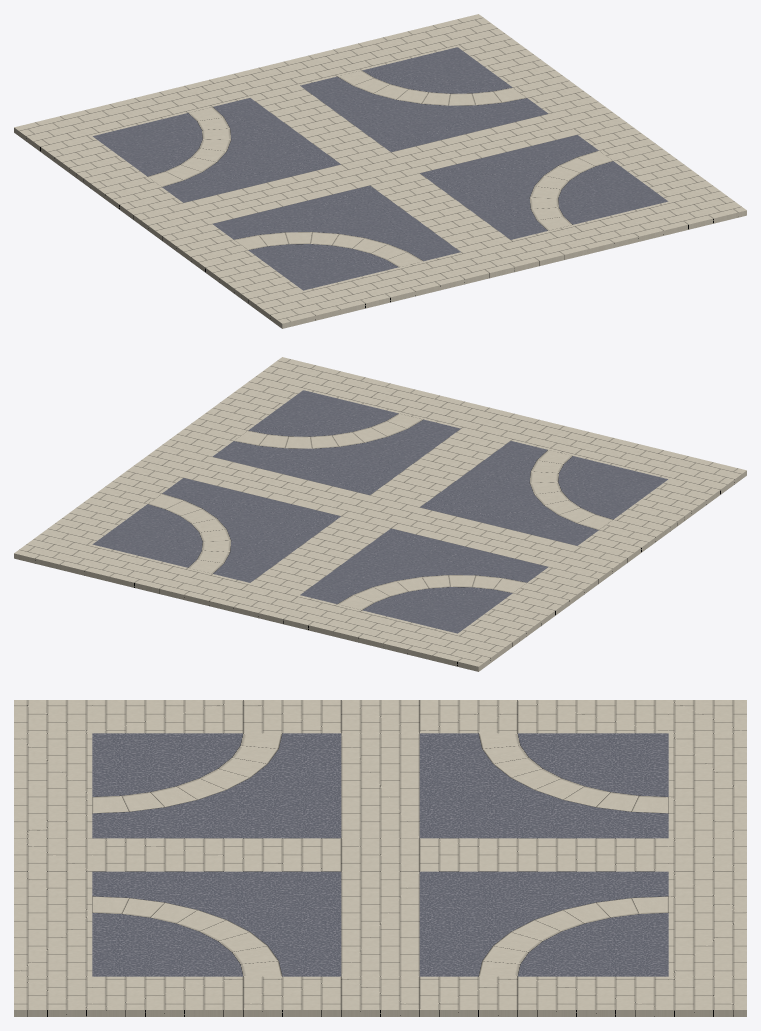
File: PatioGrande.fbx
The picture shows the model from 3 angles, top to bottom: view 1: azimuth 30°, elevation 25°; view 2: azimuth 150°, elevation 25°; view 3: azimuth 270°, elevation 25°; orthographic projection. The views are drawn at different scales.
Visible parts, largest first — view 1: PatioGrande; view 2: PatioGrande; view 3: PatioGrande.
Boxes of the visible parts, left/top/right/bottom form: PatioGrande: left=14, top=14, right=746, bottom=328; PatioGrande: left=14, top=357, right=746, bottom=671; PatioGrande: left=14, top=700, right=746, bottom=1016.
Size of what is drawn, in the model's own units: 1870 by 1870 by 20.
